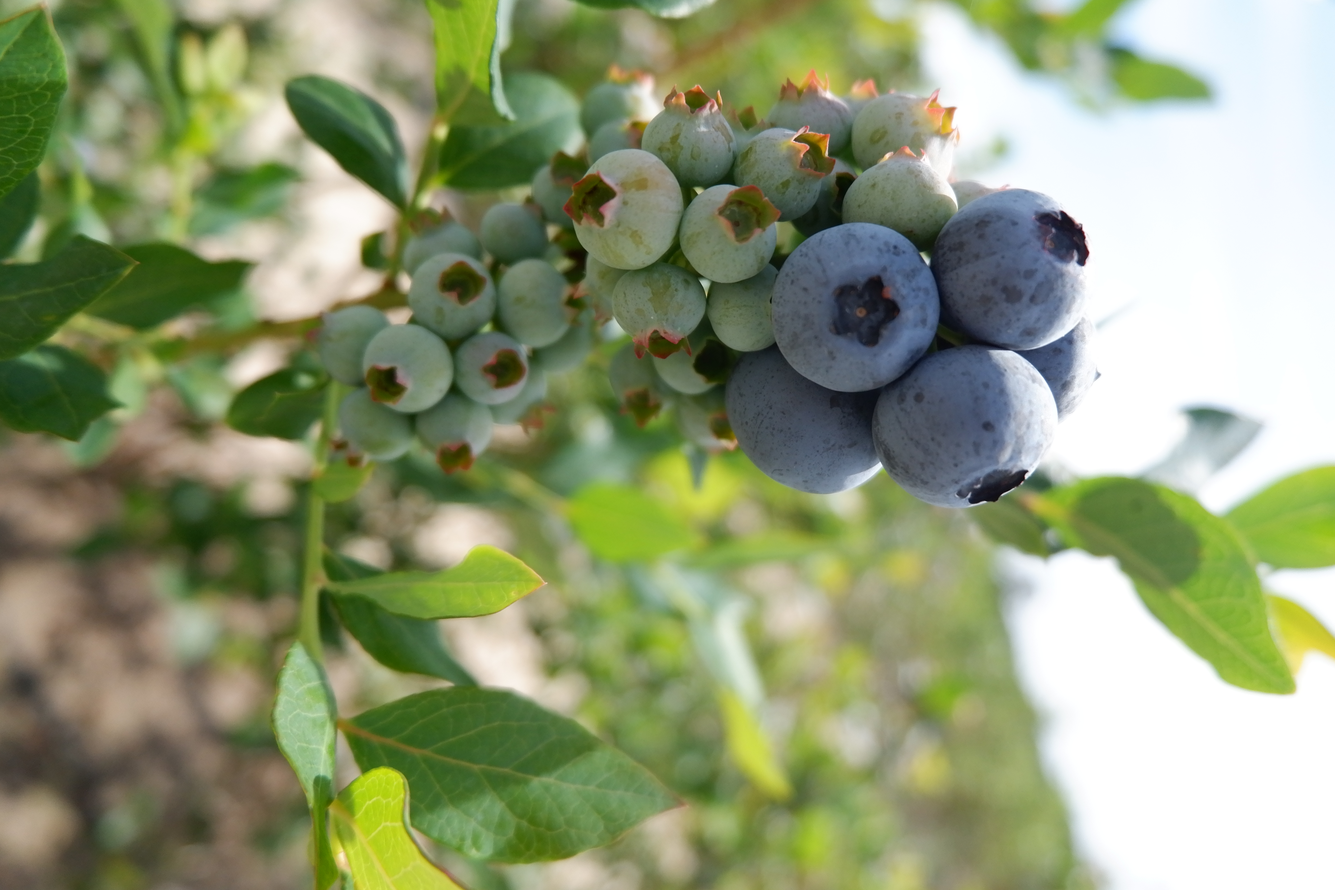Immature: (566, 151, 681, 264), (846, 151, 957, 251), (642, 87, 734, 184), (735, 129, 832, 220), (683, 186, 777, 279), (853, 92, 957, 172), (614, 261, 703, 354), (365, 326, 449, 411), (768, 70, 852, 155), (411, 255, 495, 338), (498, 262, 575, 344), (578, 65, 661, 140), (416, 388, 492, 468), (789, 156, 860, 239), (311, 307, 386, 383), (709, 267, 777, 349), (338, 388, 414, 460), (455, 333, 529, 402), (403, 208, 481, 273), (532, 298, 598, 374), (610, 341, 671, 422), (479, 204, 546, 262), (723, 100, 771, 170), (492, 364, 545, 425), (531, 157, 578, 224), (580, 257, 629, 320), (655, 344, 715, 393), (690, 323, 741, 378), (589, 120, 644, 161), (842, 80, 879, 131), (950, 182, 1005, 212)
Mature: (876, 351, 1054, 503), (775, 225, 936, 387), (936, 192, 1088, 345), (728, 345, 882, 489), (1017, 320, 1095, 413)
